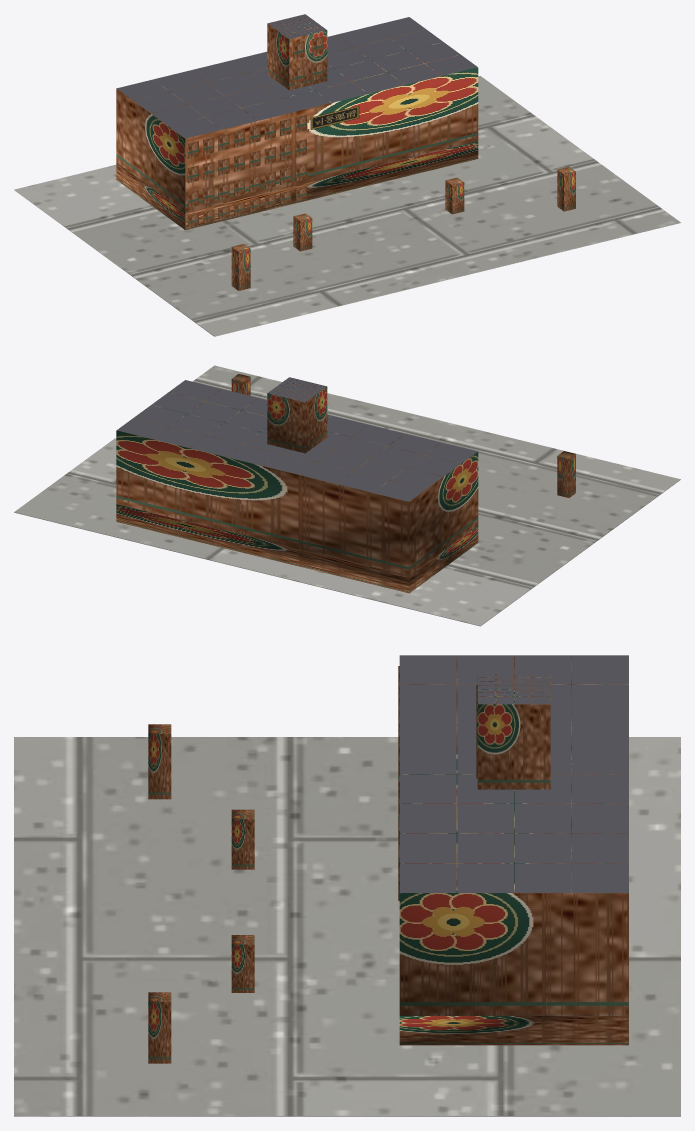
3 views of the same model, one above another, from view 1: azimuth 30°, elevation 25°; view 2: azimuth 150°, elevation 25°; view 3: azimuth 270°, elevation 25° (orthographic). The views are drawn at different scales.
Parts seen in each view (by area): view 1: 11140_02_04524_017_01_L2__base, 11140_02_04524_017_02_L2__body, 11140_02_04524_017_03_L2__roof, 11140_02_04524_017_05_L2__openings, 11140_02_04524_017_06_L2__green, 11140_02_04524_017_04_L2__sign; view 2: 11140_02_04524_017_02_L2__body, 11140_02_04524_017_01_L2__base, 11140_02_04524_017_03_L2__roof, 11140_02_04524_017_06_L2__green; view 3: 11140_02_04524_017_01_L2__base, 11140_02_04524_017_03_L2__roof, 11140_02_04524_017_02_L2__body, 11140_02_04524_017_06_L2__green.
Part boxes in pixels (x1=…): 11140_02_04524_017_01_L2__base: x1=14, y1=76, x2=680, y2=336; 11140_02_04524_017_02_L2__body: x1=116, y1=15, x2=478, y2=229; 11140_02_04524_017_03_L2__roof: x1=117, y1=14, x2=477, y2=138; 11140_02_04524_017_05_L2__openings: x1=187, y1=36, x2=323, y2=226; 11140_02_04524_017_06_L2__green: x1=231, y1=166, x2=575, y2=290; 11140_02_04524_017_04_L2__sign: x1=310, y1=106, x2=359, y2=129; 11140_02_04524_017_02_L2__body: x1=116, y1=378, x2=478, y2=593; 11140_02_04524_017_01_L2__base: x1=14, y1=365, x2=680, y2=626; 11140_02_04524_017_03_L2__roof: x1=117, y1=377, x2=477, y2=501; 11140_02_04524_017_06_L2__green: x1=231, y1=374, x2=575, y2=497; 11140_02_04524_017_01_L2__base: x1=14, y1=737, x2=680, y2=1116; 11140_02_04524_017_03_L2__roof: x1=400, y1=655, x2=628, y2=892; 11140_02_04524_017_02_L2__body: x1=399, y1=655, x2=628, y2=1045; 11140_02_04524_017_06_L2__green: x1=148, y1=724, x2=254, y2=1063.
Bounding box in the file's own units: 86 × 25.22 × 64.
5 materials, 5 textured.
